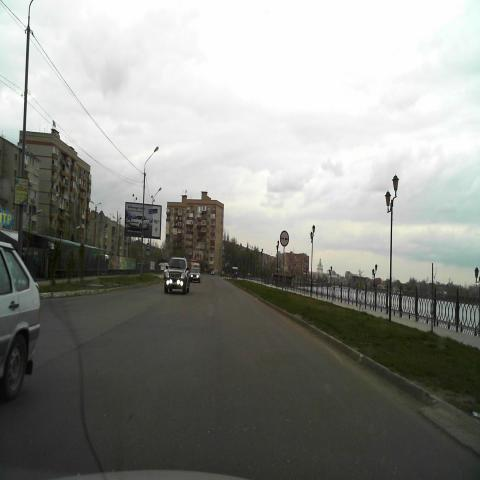3_20: (279, 230, 289, 248)
